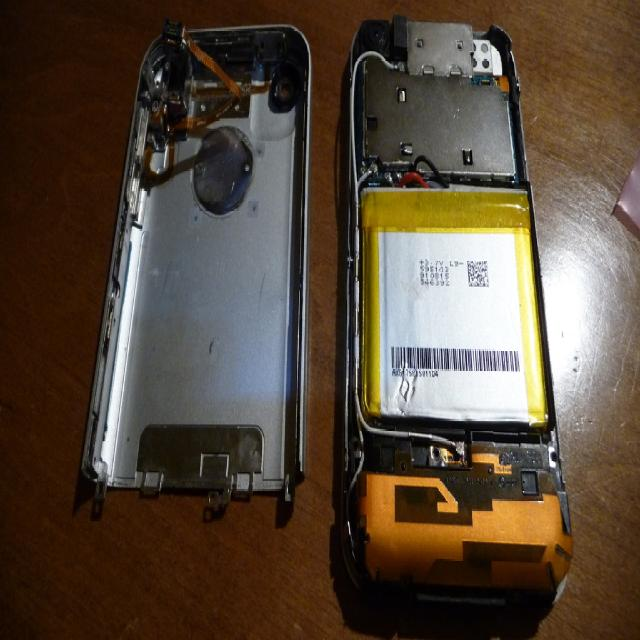Mobile-phone: (343, 13, 553, 640)
